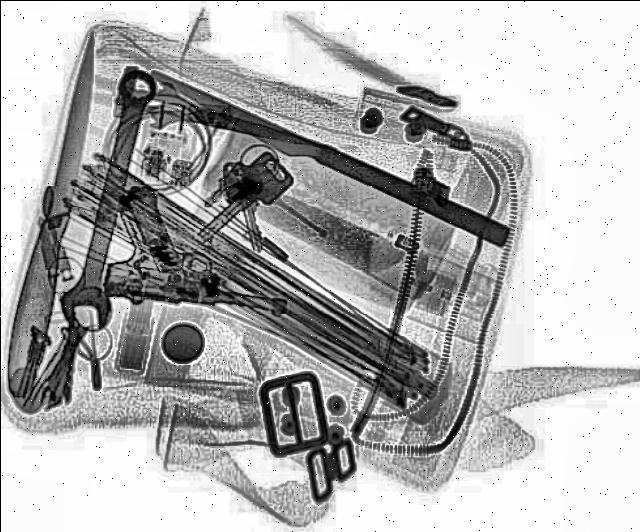Gun: (95, 186, 299, 318)
Knife: (134, 68, 512, 248), (0, 31, 108, 391), (134, 78, 343, 166)
Wrench: (52, 68, 166, 332)
